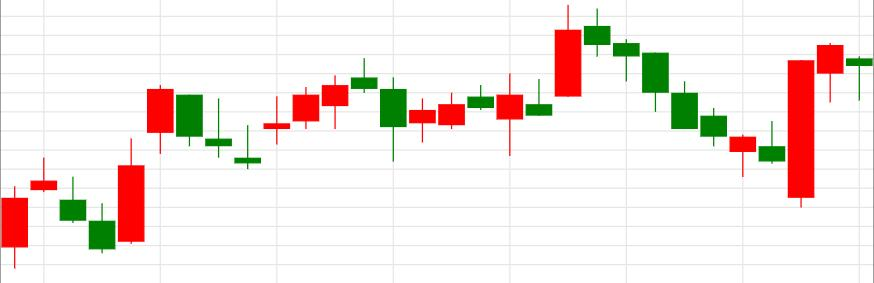evening_star_fall: (234, 58, 406, 169)
